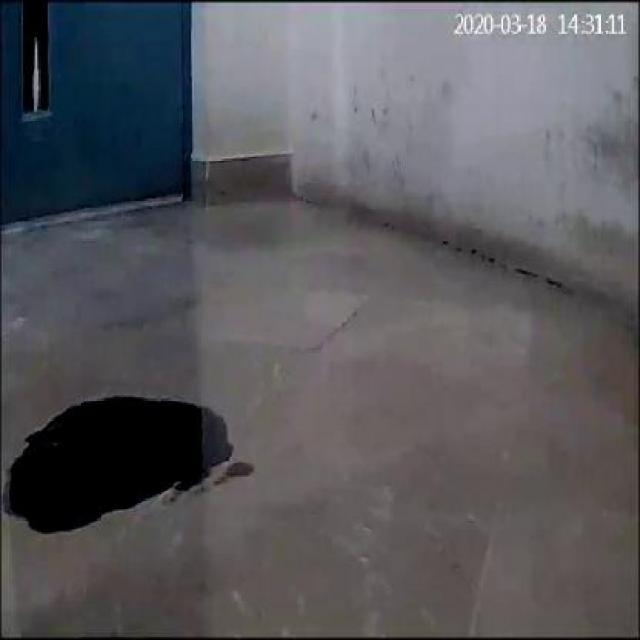spill: (6, 396, 234, 536)
